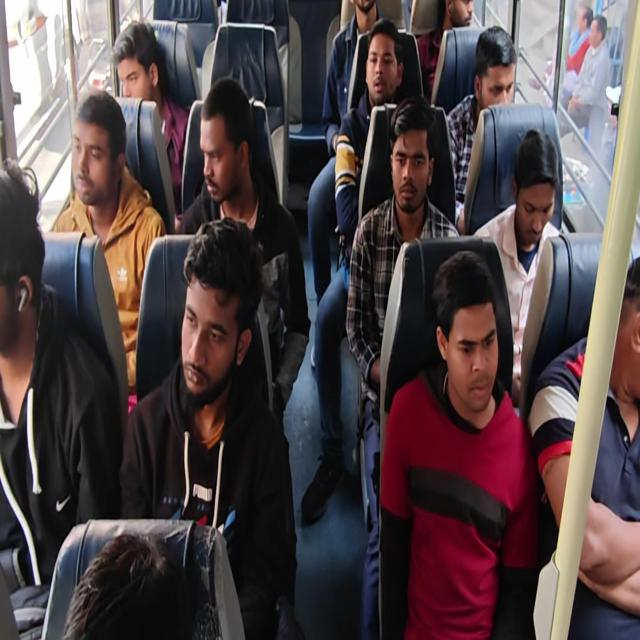person: (67, 526, 215, 640), (179, 214, 259, 424), (437, 246, 521, 422), (0, 158, 56, 376), (72, 92, 128, 224), (196, 74, 253, 202), (606, 248, 640, 406), (386, 111, 437, 216), (515, 121, 558, 242), (114, 15, 168, 105), (474, 30, 514, 128), (365, 27, 402, 102), (444, 0, 480, 40)
